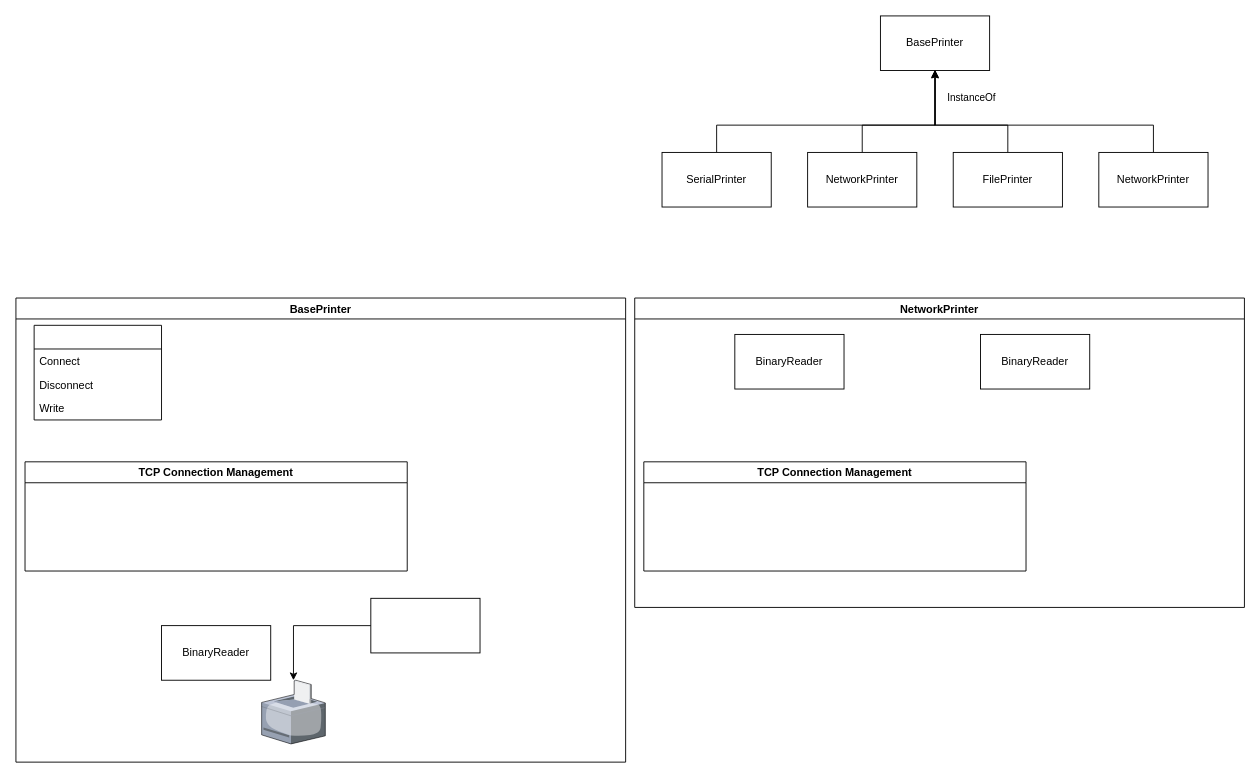
This 1260x778 diagram has some shape labels left out. Each missing label, with the box of its shape:
BinaryWriter: (370, 597, 480, 653)
Virtual Methods: (33, 324, 162, 420)
